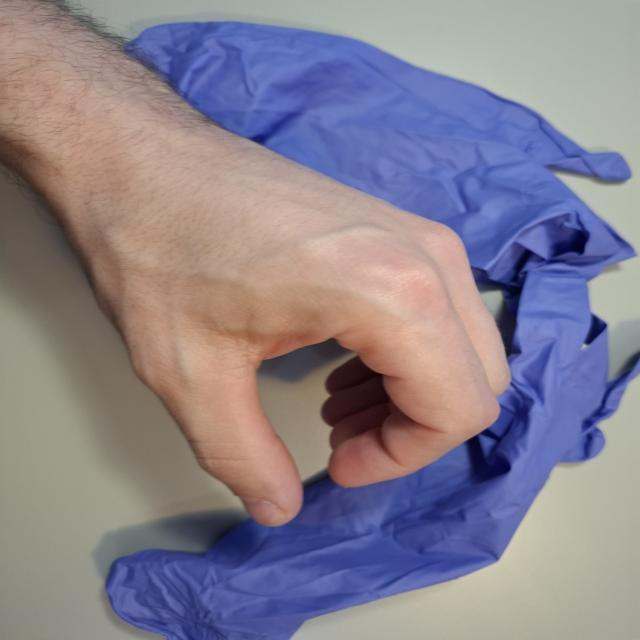glove_off: (45, 109, 518, 530)
